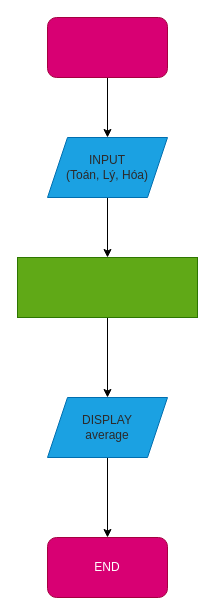
This 215x615 diagram has some shape labels left out. The centre of each missing label's shape, as x and y in pixels:
average = (Toán+Lý+Hóa)/3: the point at 107,287
START: the point at 107,47
